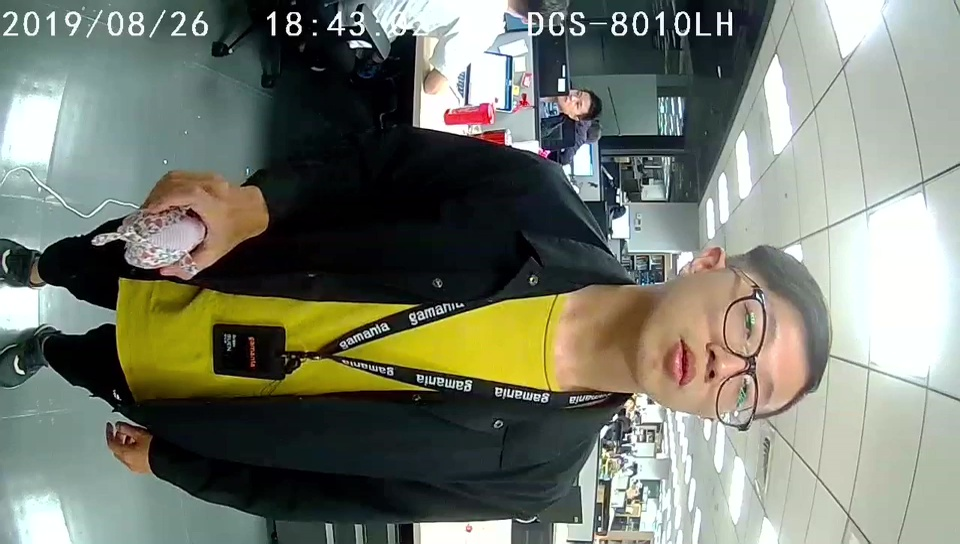pig: (120, 206, 205, 274)
